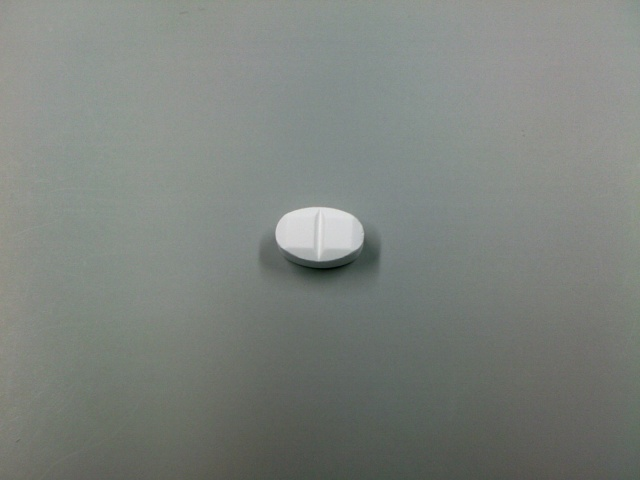|: (308, 200, 325, 272)
